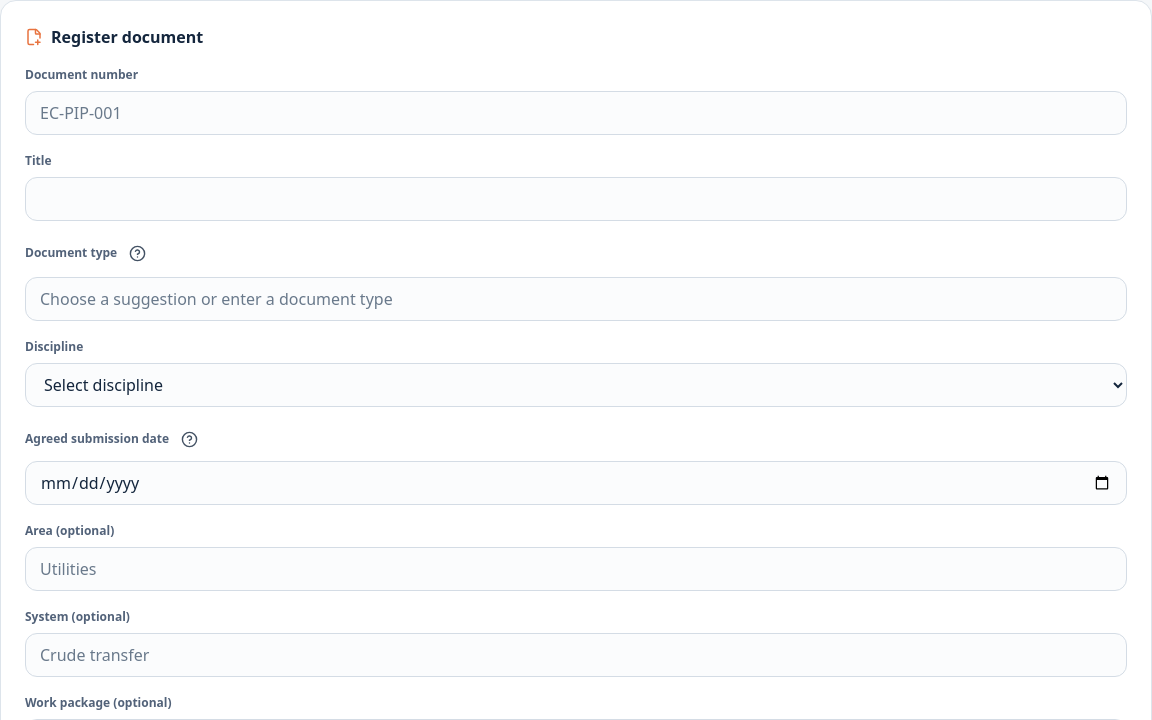
Test case: preserves pending gates while optional help remains keyboard accessible and non-submitting
Click the button named "First-submission date". click: (189, 439)
box: [173,423,205,455]
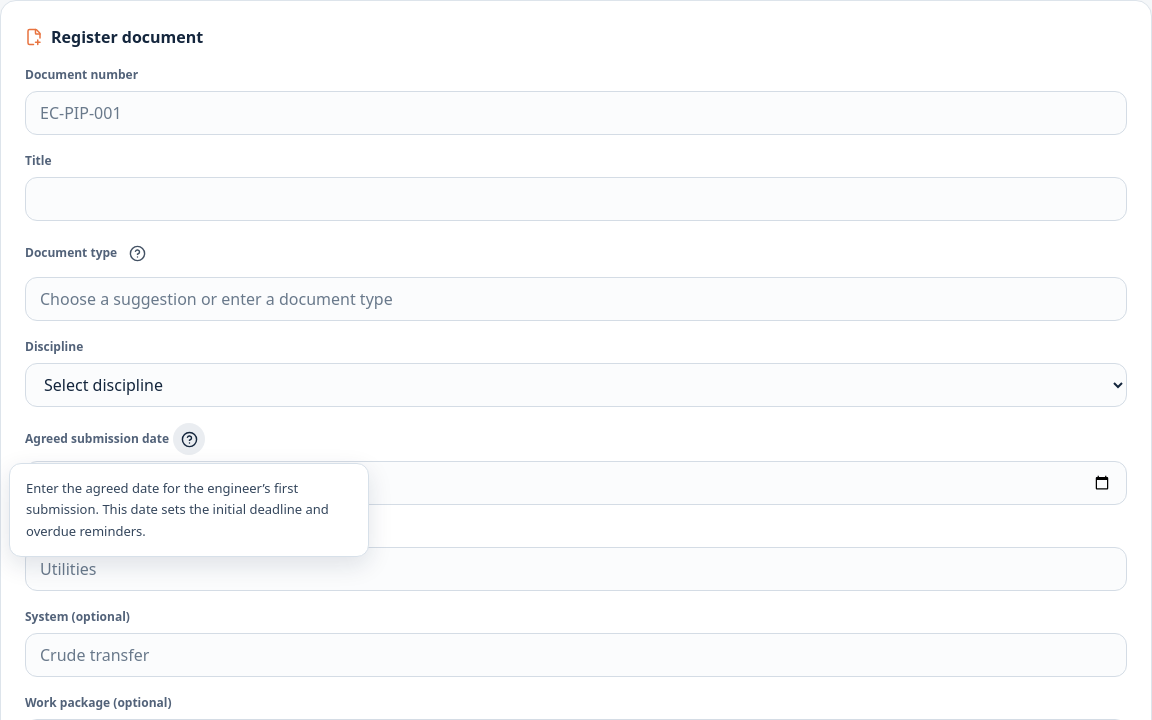
Expected: the field labelled "Title" is enabled, [25,177,1127,221]
Expected: the tooltip shows "agreed date for the engineer’s first submission", [26,479,329,540]
